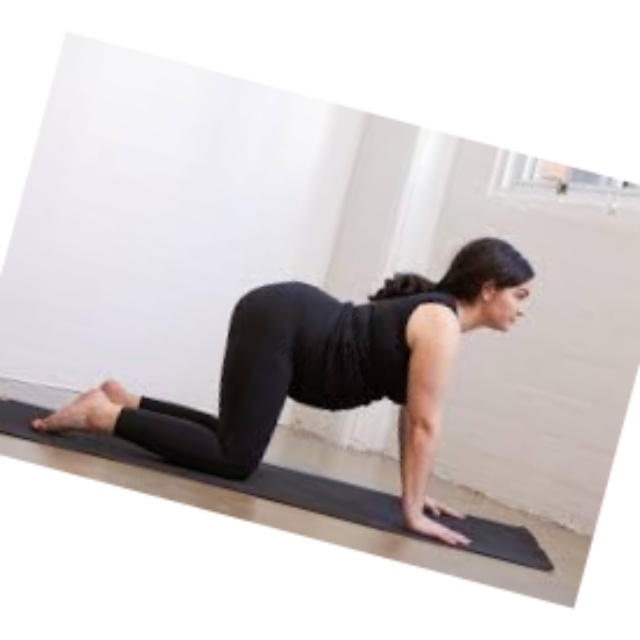Cow_Pose: (27, 237, 532, 550)
